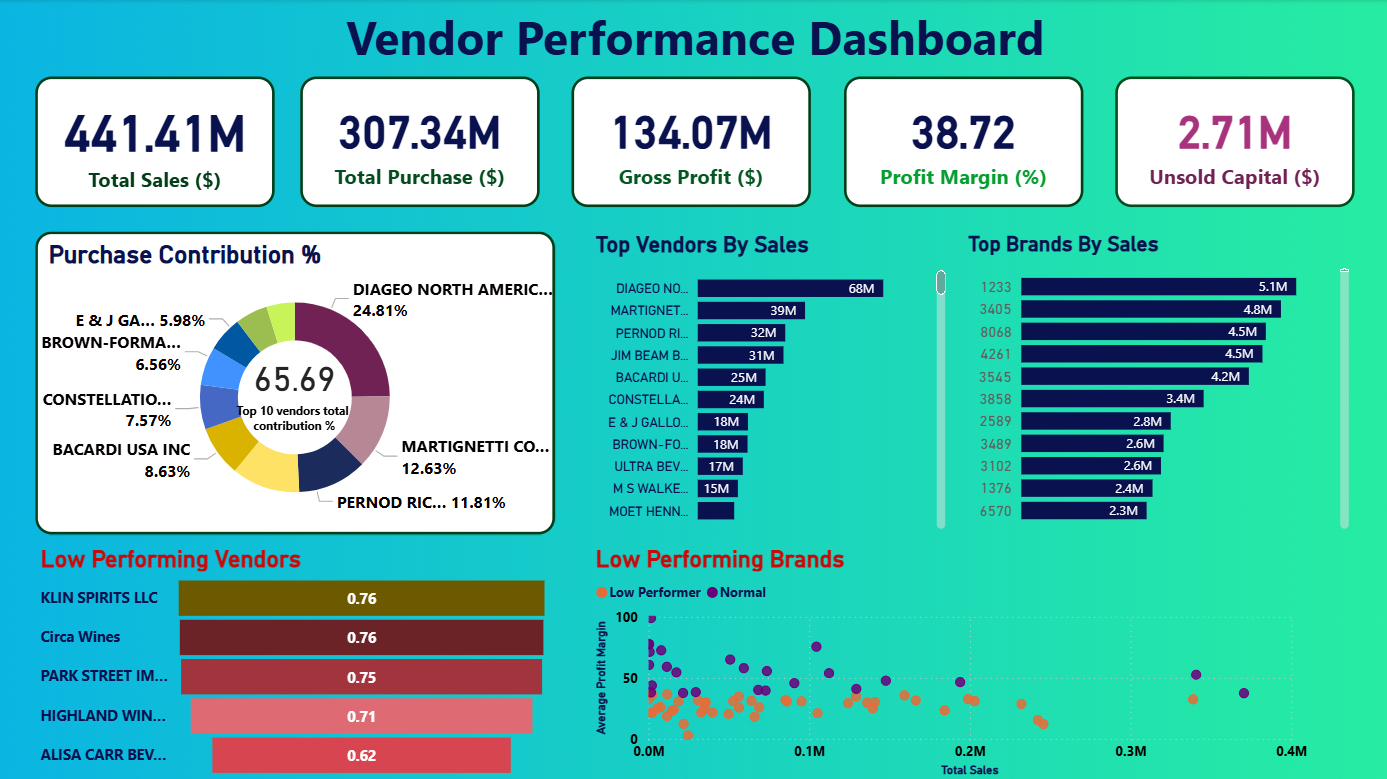

The page's visual inventory and layout, read from the dashboard file:
{"tool":"powerbi","page":{"name":"Page 1","canvas":[1280,720],"ordinal":0},"visuals":[{"type":"card","fields":{"Values":["Sum(vendor_sales_summary.Total Sales)"]},"box":[33.8,71.2,220,120],"z":0},{"type":"card","fields":{"Values":["Sum(vendor_sales_summary.Total Purchase)"]},"box":[276.7,71,220,120],"z":1000},{"type":"card","fields":{"Values":["Sum(vendor_sales_summary.Gross Profit)"]},"box":[526.4,71,220,120],"z":2000},{"type":"card","fields":{"Values":["Avg(vendor_sales_summary.Profit Margin)"]},"box":[776.1,71,220,120],"z":3000},{"type":"card","fields":{"Values":["Sum(vendor_sales_summary.UnsoldCapital)"]},"box":[1025.8,71,220,120],"z":4000},{"type":"textbox","box":[0,0,1280,343.8],"z":5000},{"type":"donutChart","title":"Purchase Contribution %","fields":{"Category":["vendor_sales_summary.VendorName"],"Y":["Sum(vendor_sales_summary.Total Purchase)"]},"box":[33.8,213.8,477.5,278.8],"z":6000},{"type":"card","fields":{"Values":["PurchaseContribution.TopVendorContribution"]},"box":[190,271.2,163.8,166.2],"z":7000},{"type":"clusteredBarChart","title":"Top Vendors By Sales ","fields":{"Category":["vendor_sales_summary.VendorName"],"Y":["Sum(vendor_sales_summary.Total Sales)"]},"box":[543.6,213.2,331.6,278.3],"z":7001},{"type":"clusteredBarChart","title":"Top Brands By Sales","fields":{"Category":["vendor_sales_summary.Brand"],"Y":["Sum(vendor_sales_summary.Total Sales)"]},"box":[885.9,213.2,360,278.3],"z":7002},{"type":"funnel","title":"Low Performing Vendors ","fields":{"Category":["LowTurnoverVendor.VendorName"],"Y":["Avg(LowTurnoverVendor.AvgStockTurnover)"]},"box":[33.7,502,478.2,218],"z":7003},{"type":"scatterChart","title":"Low Performing Brands ","fields":{"X":["Sum(VendorPerformance.TotalSales)"],"Y":["Avg(VendorPerformance.AvgProfitMargin)"],"Category":["VendorPerformance.VendorName"],"Series":["VendorPerformance.TargetBrand"]},"box":[543.6,502.1,664.4,217.9],"z":7004}]}

Visuals, with their boxes in screenshot pixels (x1, y1, x2, y2), scaled from the page's 1280x720 canvas onto the 1387x779 screenshot:
card - Sum(vendor_sales_summary.Total Sales): (37,77,275,207)
card - Sum(vendor_sales_summary.Total Purchase): (300,77,538,207)
card - Sum(vendor_sales_summary.Gross Profit): (570,77,809,207)
card - Avg(vendor_sales_summary.Profit Margin): (841,77,1079,207)
card - Sum(vendor_sales_summary.UnsoldCapital): (1112,77,1350,207)
textbox: (0,0,1386,372)
"Purchase Contribution %" donutChart: (37,231,554,533)
card - PurchaseContribution.TopVendorContribution: (206,293,383,473)
"Top Vendors By Sales " clusteredBarChart: (589,231,948,532)
"Top Brands By Sales" clusteredBarChart: (960,231,1350,532)
"Low Performing Vendors " funnel: (37,543,555,778)
"Low Performing Brands " scatterChart: (589,543,1309,778)
